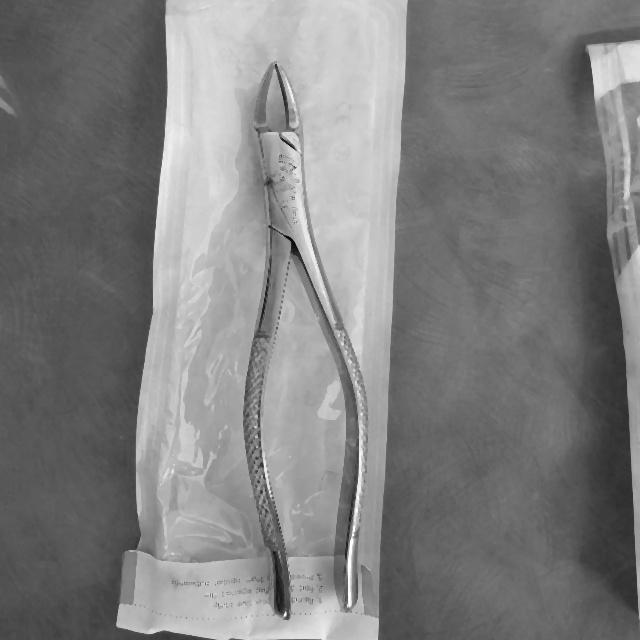forceps: (243, 63, 373, 618)
